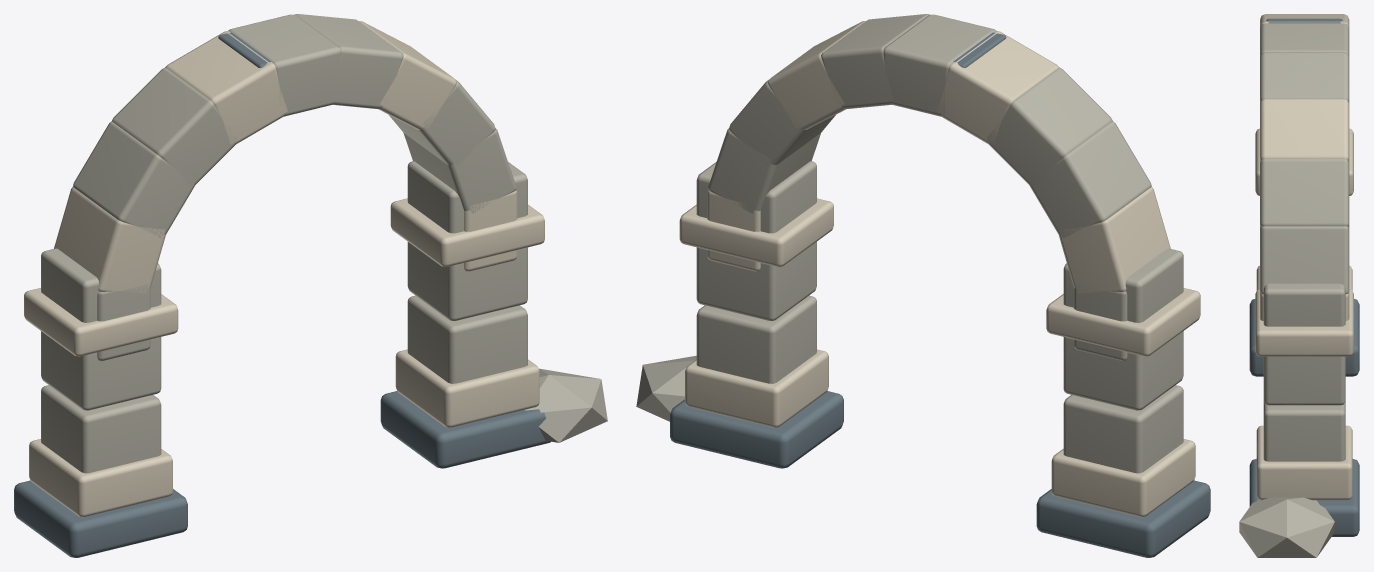
Rendered from SM_RuinArch_Broken_01.fbx.
The picture shows the model from 3 angles, left to right: view 1: azimuth 30°, elevation 25°; view 2: azimuth 150°, elevation 25°; view 3: azimuth 270°, elevation 25°; orthographic projection. The views are drawn at different scales.
Parts seen in each view (by area): view 1: SM_RuinArch_Broken_01; view 2: SM_RuinArch_Broken_01; view 3: SM_RuinArch_Broken_01.
Boxes of the visible parts, box(x1,y1,x2,y2) form: SM_RuinArch_Broken_01: box(14, 14, 607, 557); SM_RuinArch_Broken_01: box(636, 14, 1210, 557); SM_RuinArch_Broken_01: box(1239, 14, 1359, 557).
Bounding box in the file's own units: 4.86 × 3.83 × 1.03.
